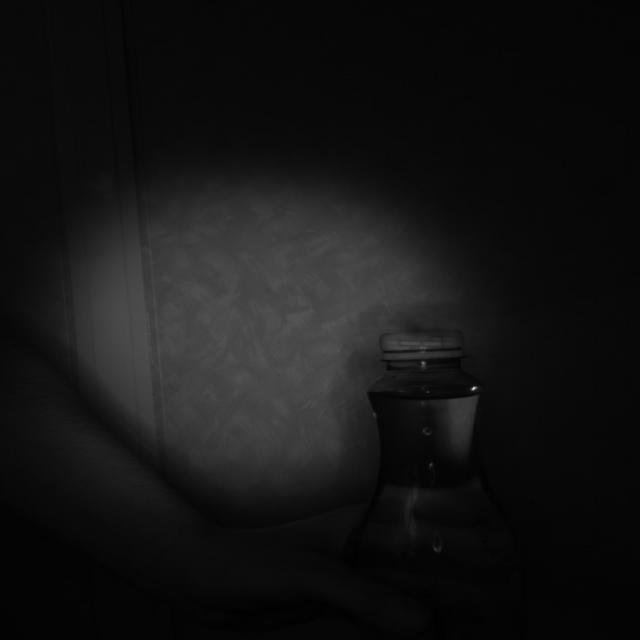Not Good: (380, 326, 468, 362)
